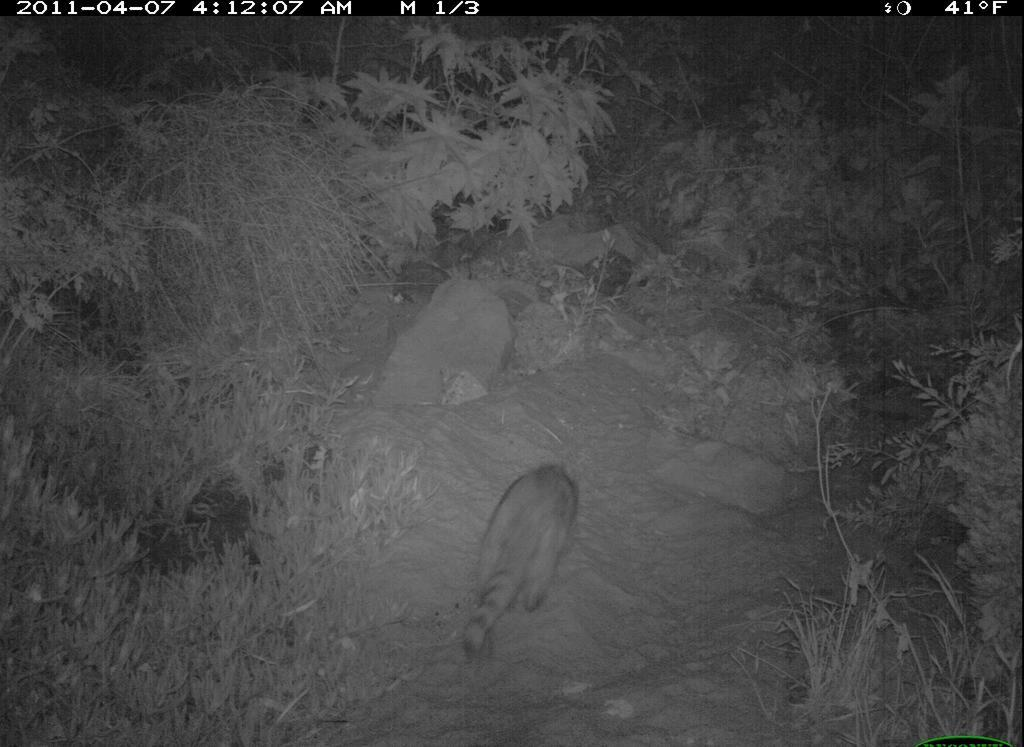raccoon: (459, 461, 587, 661)
